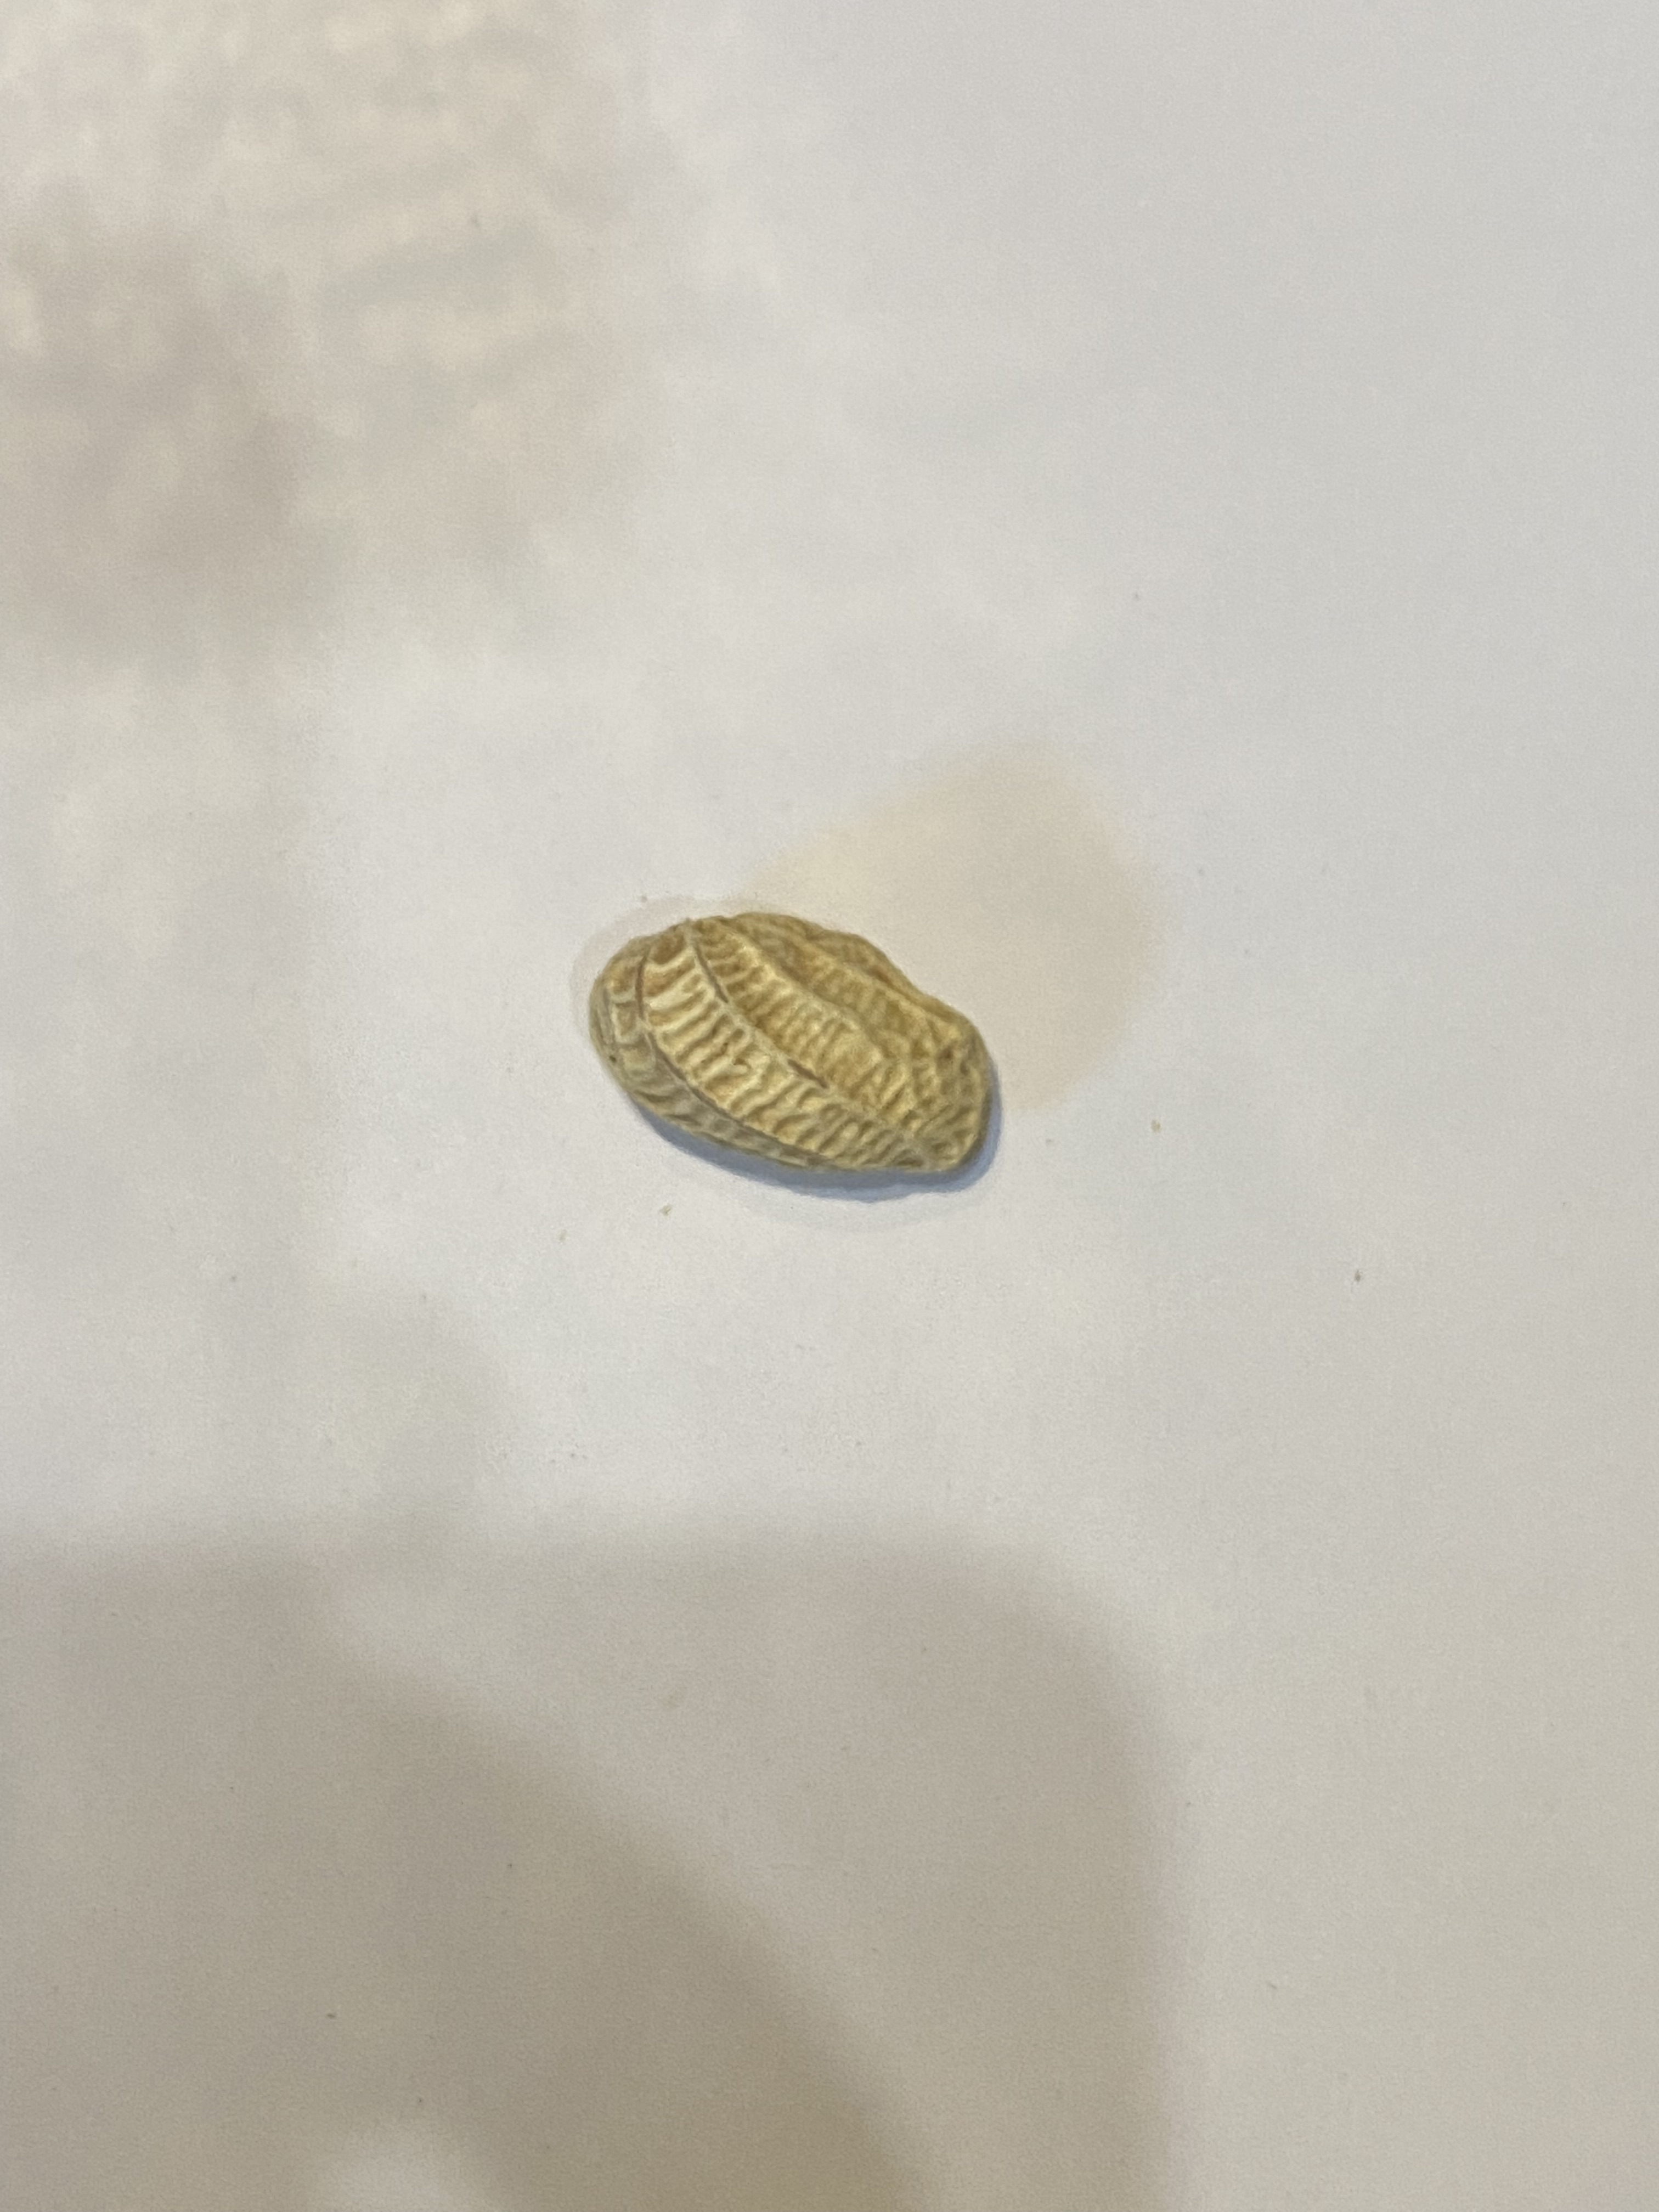kacang1: (551, 866, 1047, 1191)
